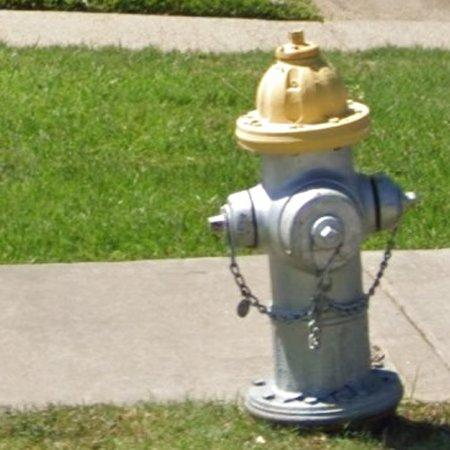a fire hydrant: (210, 31, 416, 424)
